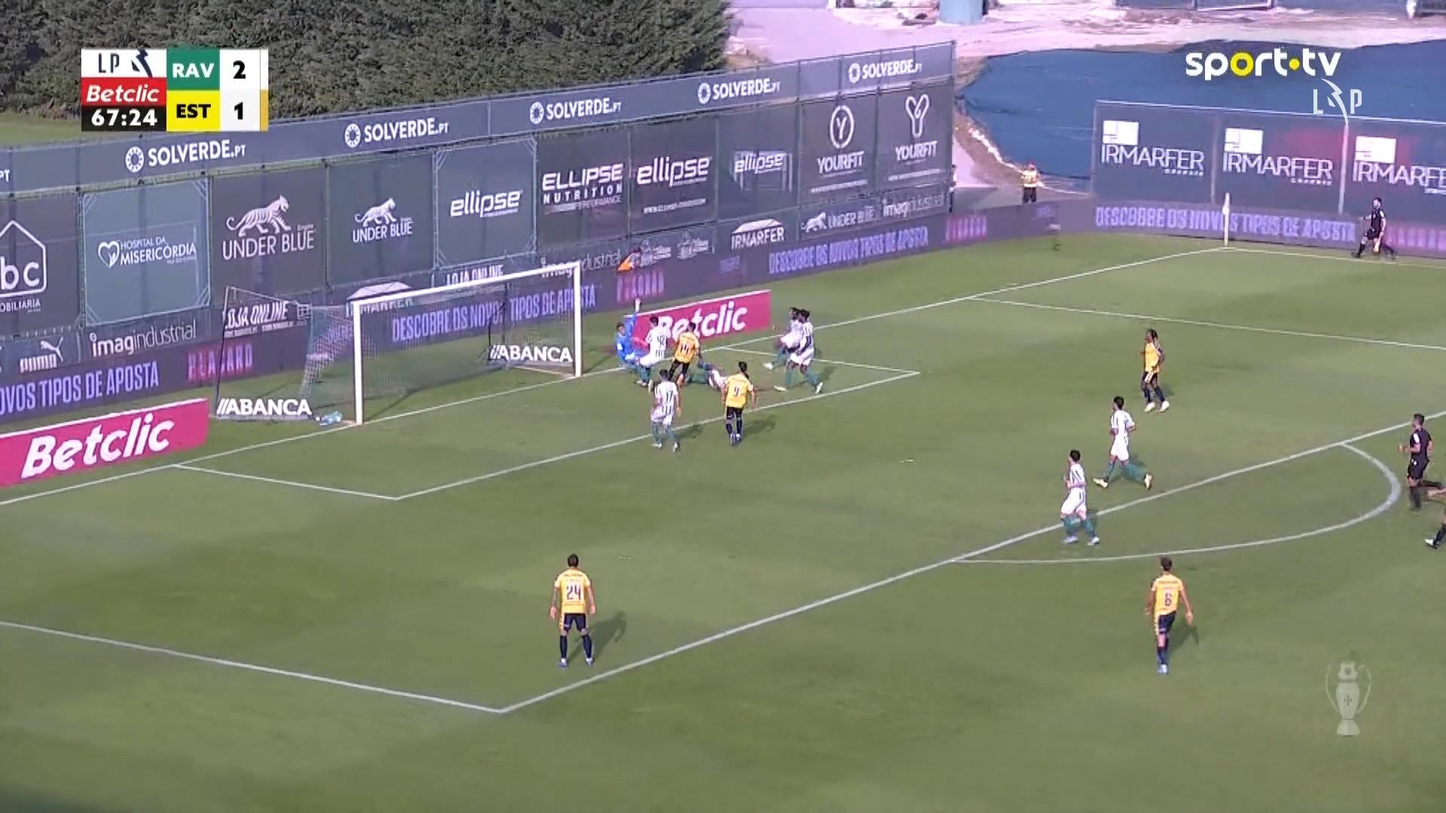goalkeeper: (613, 297, 651, 385)
player: (1143, 554, 1193, 674), (1091, 394, 1152, 490), (548, 553, 596, 668), (765, 306, 823, 394), (1058, 448, 1100, 545), (719, 360, 757, 446), (1399, 412, 1432, 509), (1405, 474, 1445, 548), (648, 367, 681, 452), (1139, 327, 1170, 413), (762, 306, 803, 370), (636, 314, 671, 386), (667, 322, 701, 385), (694, 352, 726, 391)
referee: (1351, 196, 1395, 259)
